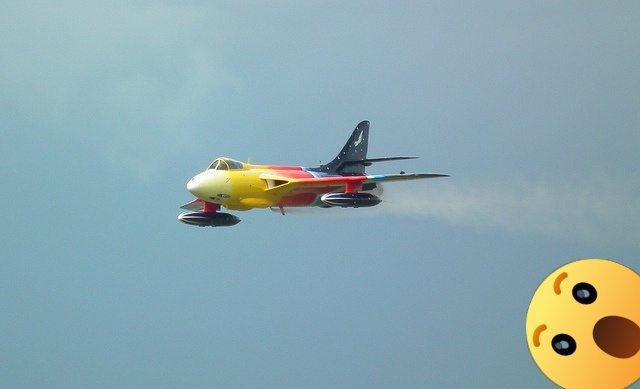wow: (526, 259, 640, 389)
